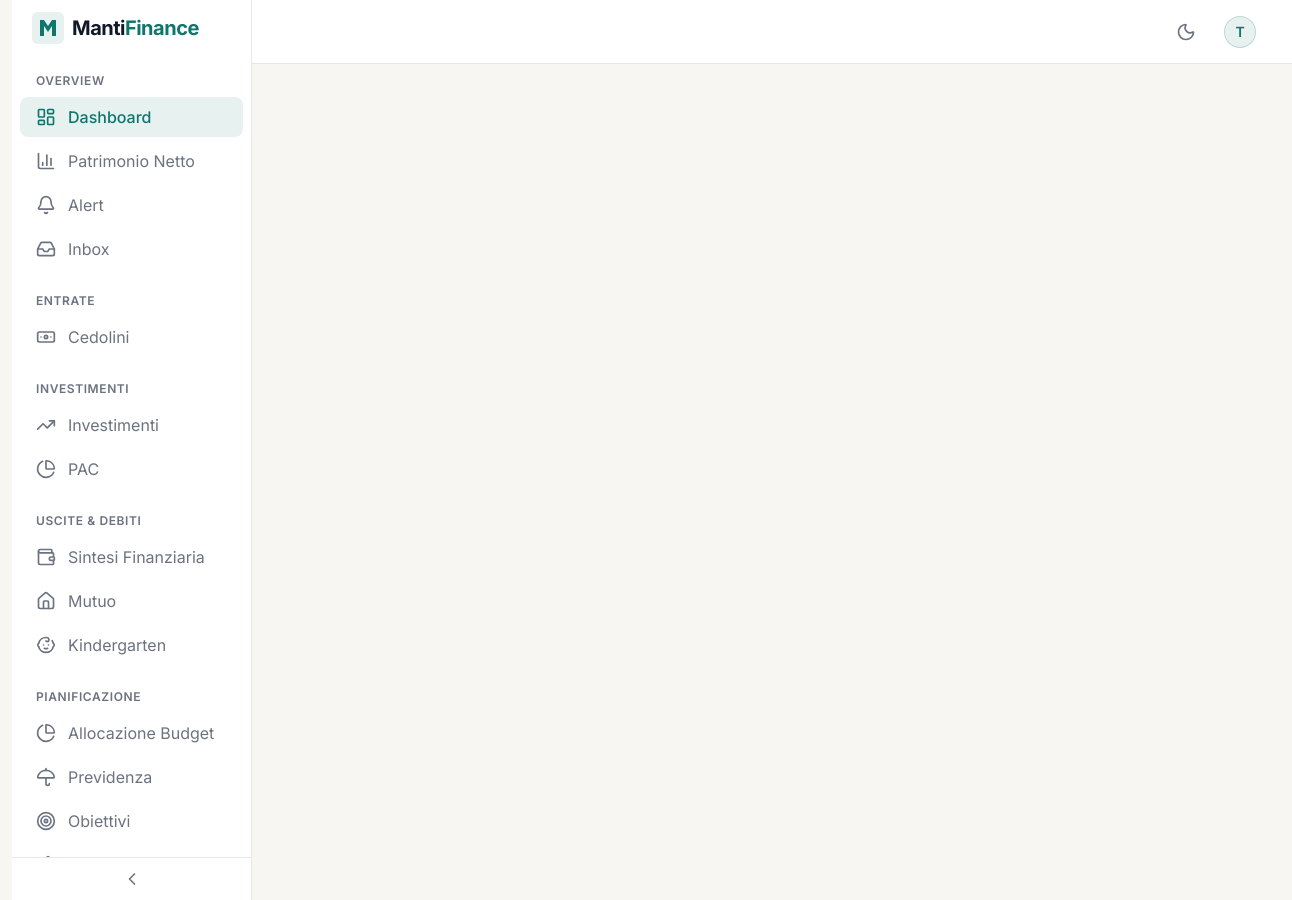
Test: Layout Component › opens and closes user menu
Click the button "T" at point(1240, 32), box [1220,12,1260,52]
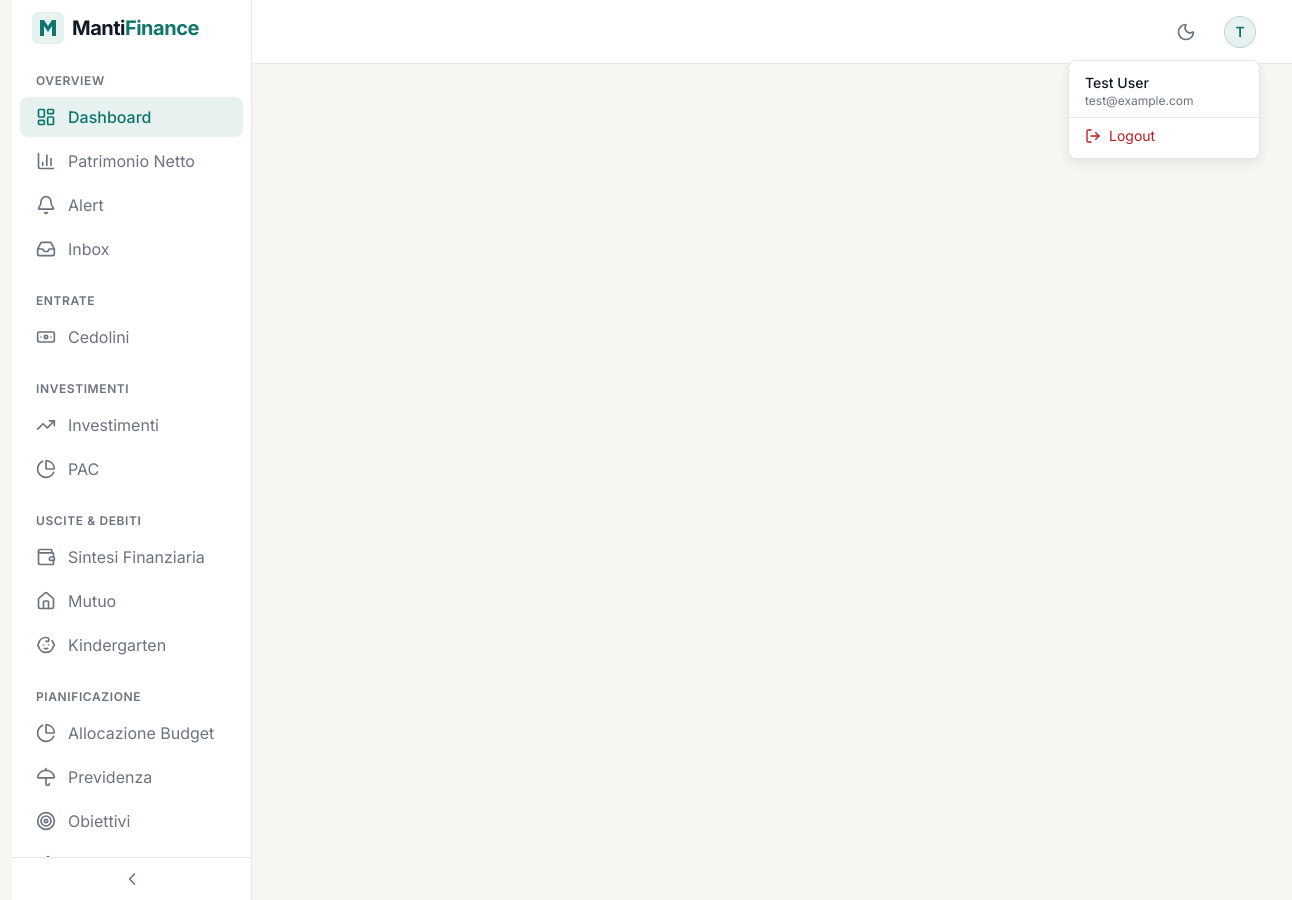
Expected: the button "Logout" is shown, [1069,118,1259,154]
Expected: the text "test@example.com" is shown, [1085,92,1194,108]
Click the button "T" at point(1240, 32), box [1220,12,1260,52]
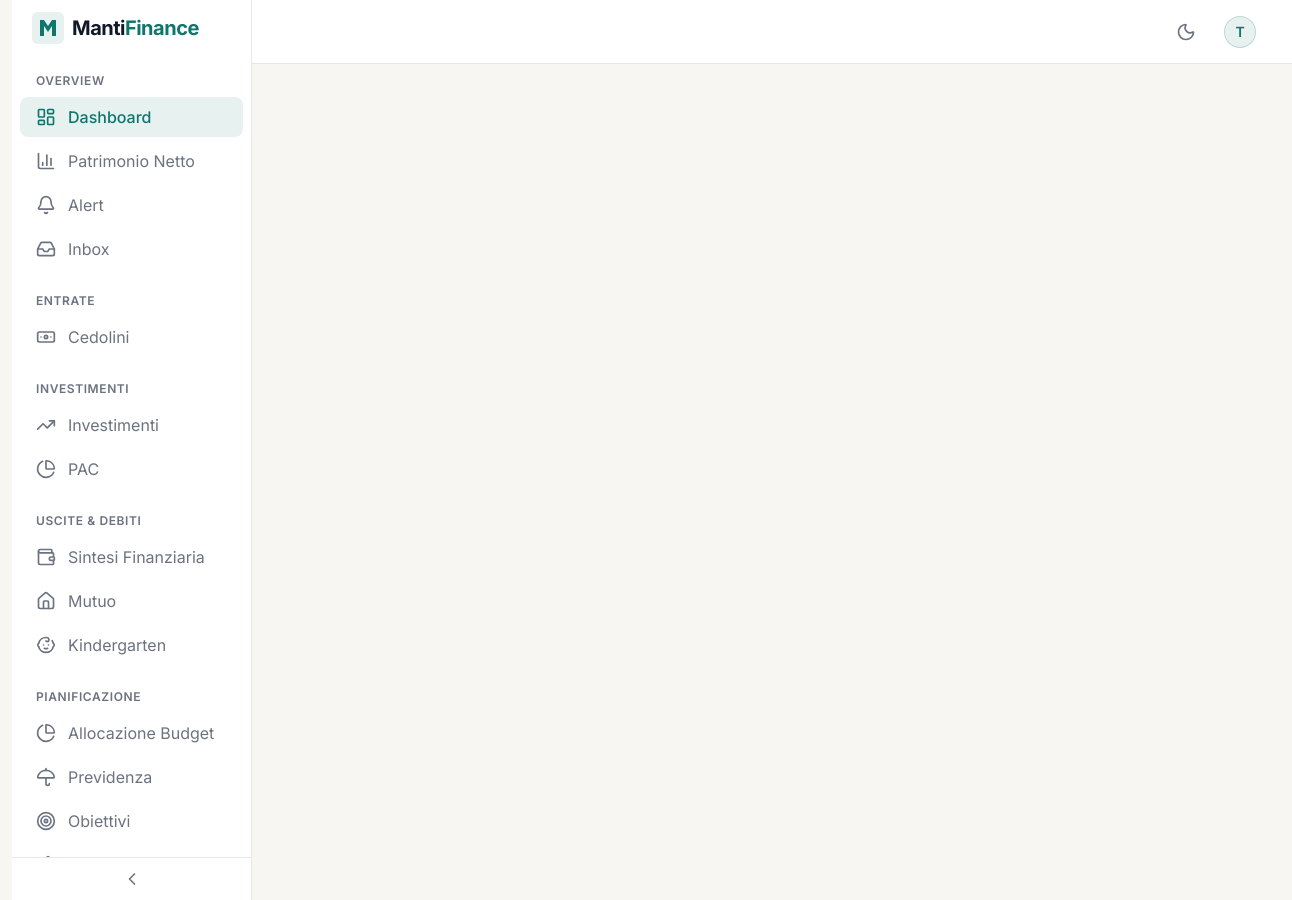
Expected: the button "Logout" is gone
